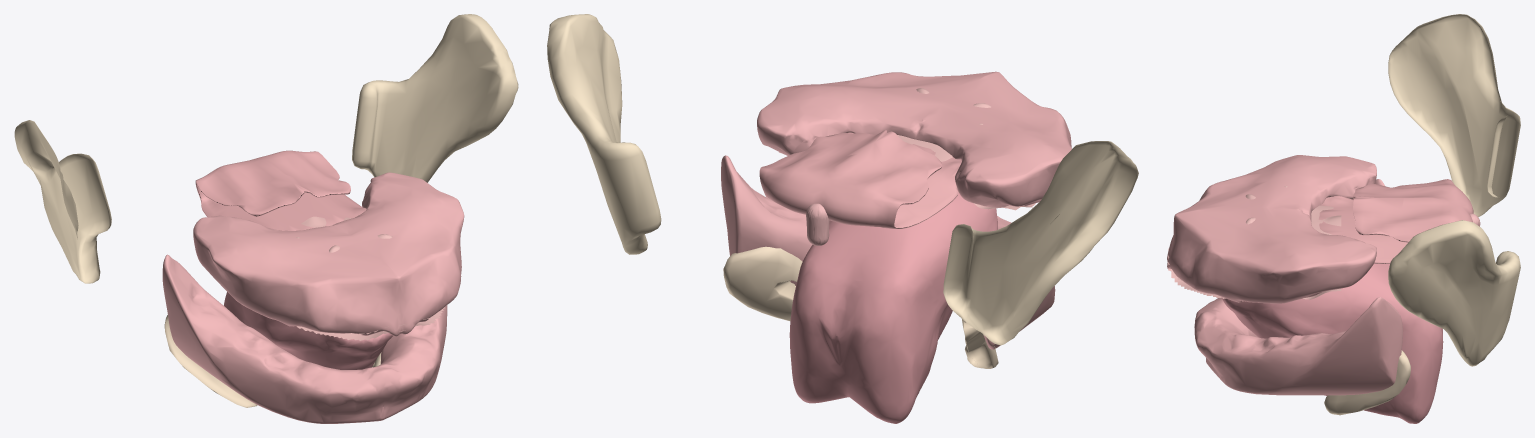
The model's file is zanatomy-oral.glb.
3 renders of one model, left to right at view 1: azimuth 30°, elevation 25°; view 2: azimuth 150°, elevation 25°; view 3: azimuth 270°, elevation 25°, orthographic. The views are drawn at different scales.
Parts seen in each view (by area): view 1: zo_gingiva, zo_parotid, zo_soft_palate, zo_tongue, zo_submandibular, zo_hard_palate; view 2: zo_parotid, zo_gingiva, zo_tongue, zo_soft_palate, zo_submandibular, zo_uvula, zo_hard_palate; view 3: zo_gingiva, zo_parotid, zo_tongue, zo_soft_palate, zo_submandibular, zo_hard_palate.
Boxes of the visible parts, x1,y1,x2,y2 form: zo_gingiva: [162, 172, 464, 423]; zo_parotid: [14, 14, 518, 283]; zo_soft_palate: [195, 150, 366, 230]; zo_tongue: [224, 292, 392, 369]; zo_submandibular: [164, 315, 374, 407]; zo_hard_palate: [296, 216, 444, 340]; zo_parotid: [547, 14, 1138, 345]; zo_gingiva: [721, 71, 1071, 349]; zo_tongue: [789, 192, 997, 423]; zo_soft_palate: [759, 130, 961, 228]; zo_submandibular: [723, 246, 998, 368]; zo_uvula: [806, 203, 829, 245]; zo_hard_palate: [779, 88, 1035, 210]; zo_gingiva: [1167, 155, 1402, 395]; zo_parotid: [1388, 14, 1520, 366]; zo_tongue: [1221, 263, 1443, 423]; zo_soft_palate: [1318, 179, 1473, 263]; zo_submandibular: [1324, 350, 1410, 415]; zo_hard_palate: [1168, 185, 1341, 301].
Size of the model in its own units: 0.13 by 0.0792 by 0.0882.
